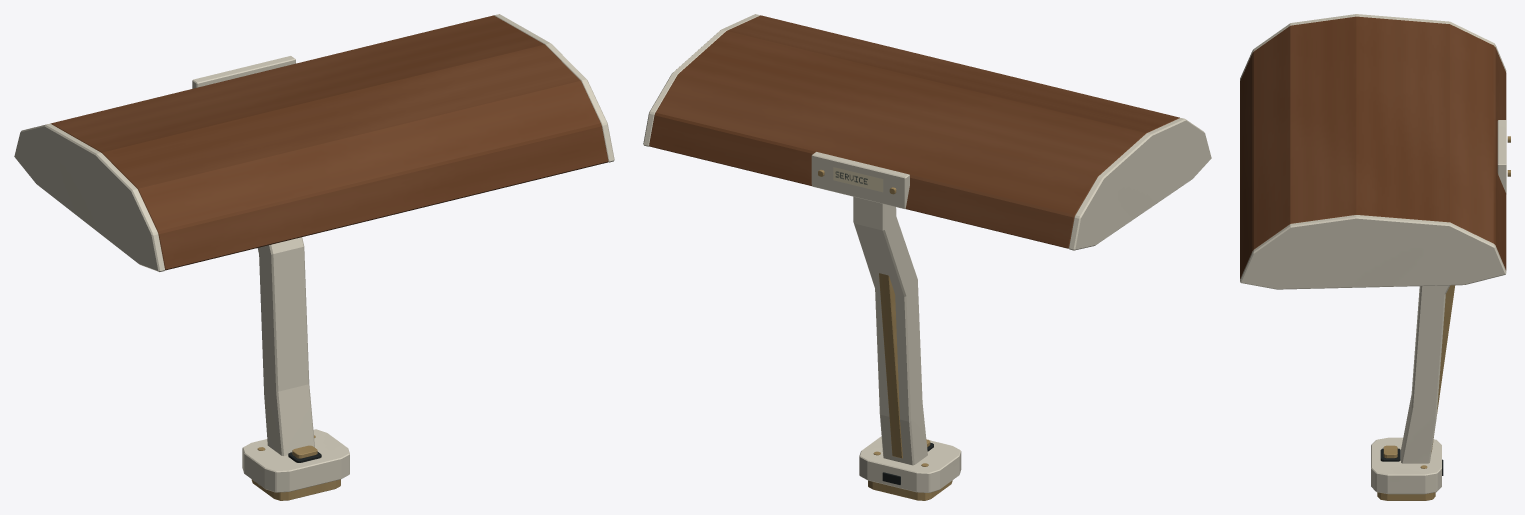
The model's file is AST-LIB-008.glb.
3 renders of one model, left to right at view 1: azimuth 30°, elevation 25°; view 2: azimuth 150°, elevation 25°; view 3: azimuth 270°, elevation 25°, orthographic. The views are drawn at different scales.
Parts seen in each view (by area): view 1: AST-LIB-008_static_visual; view 2: AST-LIB-008_static_visual; view 3: AST-LIB-008_static_visual.
Part boxes in pixels (left/top/right/bottom): AST-LIB-008_static_visual: left=14, top=14, right=614, bottom=500; AST-LIB-008_static_visual: left=643, top=14, right=1211, bottom=500; AST-LIB-008_static_visual: left=1240, top=14, right=1510, bottom=500.
Bounding box in the file's own units: 0.578 × 0.49 × 0.3244.
Materials: 7 (7 with a texture image).
